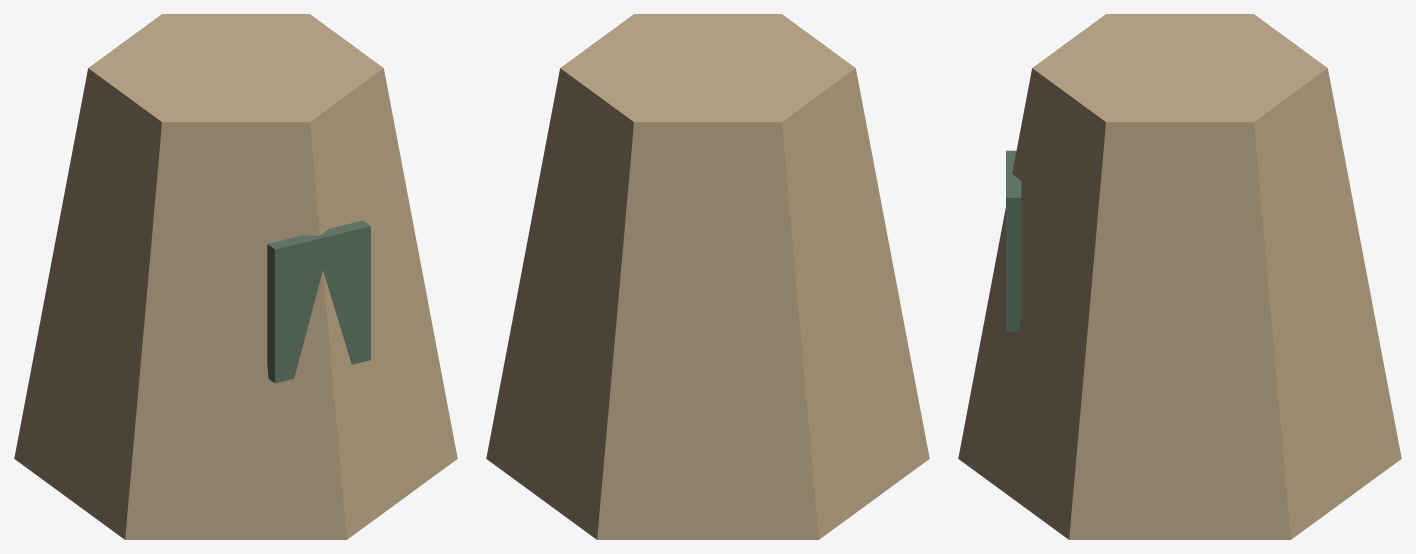
The model's file is loose.glb.
3 renders of one model, left to right at view 1: azimuth 30°, elevation 25°; view 2: azimuth 150°, elevation 25°; view 3: azimuth 270°, elevation 25°, orthographic.
Visible parts, largest first — view 1: loose_solid; view 2: loose_solid; view 3: loose_solid.
Part boxes in pixels (bbox=[...]): loose_solid: bbox=[14, 14, 457, 539]; loose_solid: bbox=[486, 14, 929, 539]; loose_solid: bbox=[958, 14, 1401, 539].
Bounding box in the file's own units: 0.6235 × 0.7 × 0.72.
